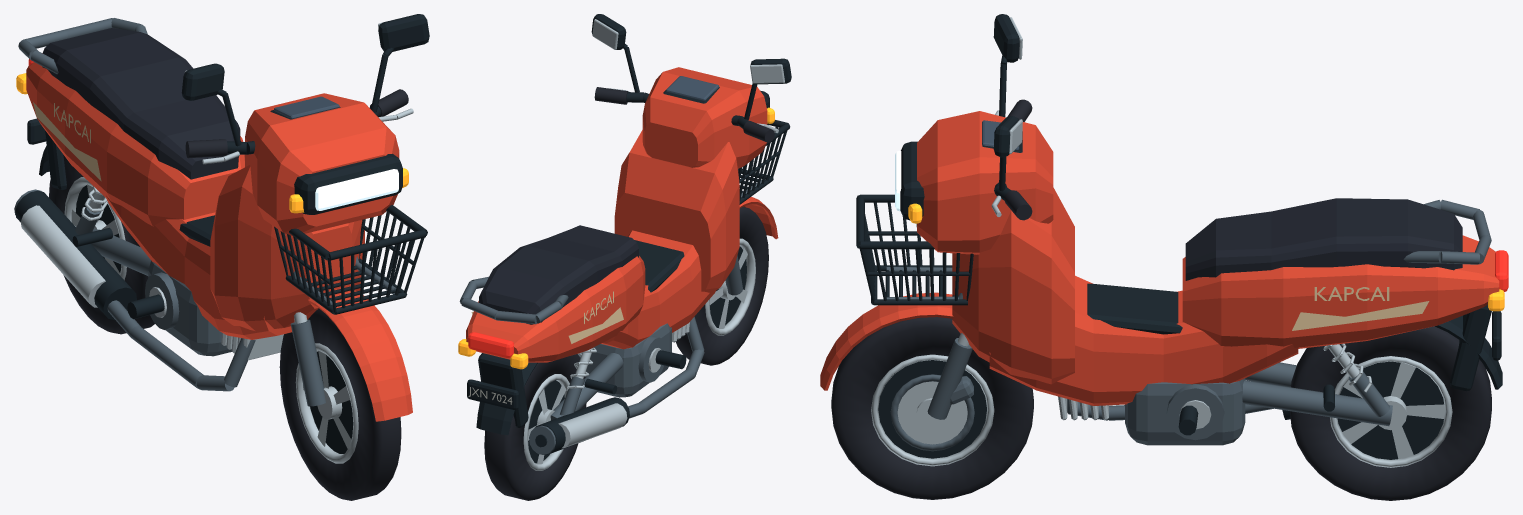
3 views of the same model, side by side, from view 1: azimuth 30°, elevation 25°; view 2: azimuth 150°, elevation 25°; view 3: azimuth 270°, elevation 25° (orthographic). The views are drawn at different scales.
Parts seen in each view (by area): view 1: Kapcai Pasar Underbone; view 2: Kapcai Pasar Underbone; view 3: Kapcai Pasar Underbone.
Part boxes in pixels (x1,y1,x2,y2): Kapcai Pasar Underbone: [14, 14, 429, 500]; Kapcai Pasar Underbone: [458, 14, 791, 500]; Kapcai Pasar Underbone: [820, 14, 1508, 500].
Bounding box in the file's own units: 0.7913 × 1.31 × 1.92.
